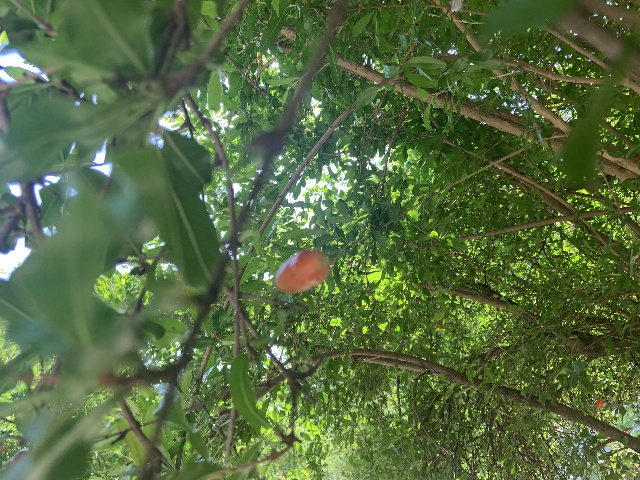bud: (276, 250, 330, 293), (437, 323, 442, 329)
flower: (596, 398, 604, 409)
